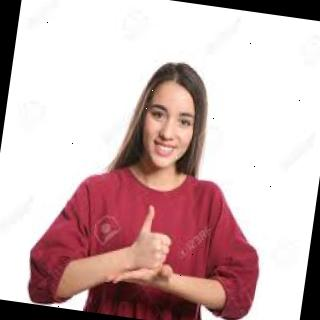Help: (111, 196, 199, 299)
